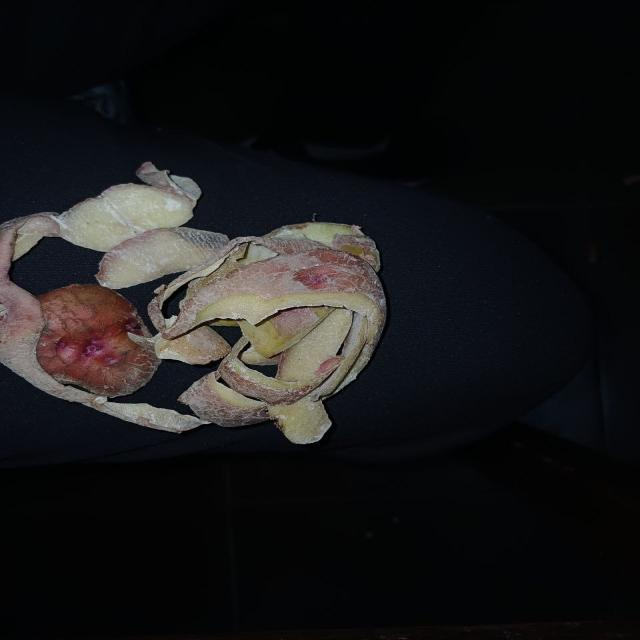organic: (2, 162, 386, 446)
